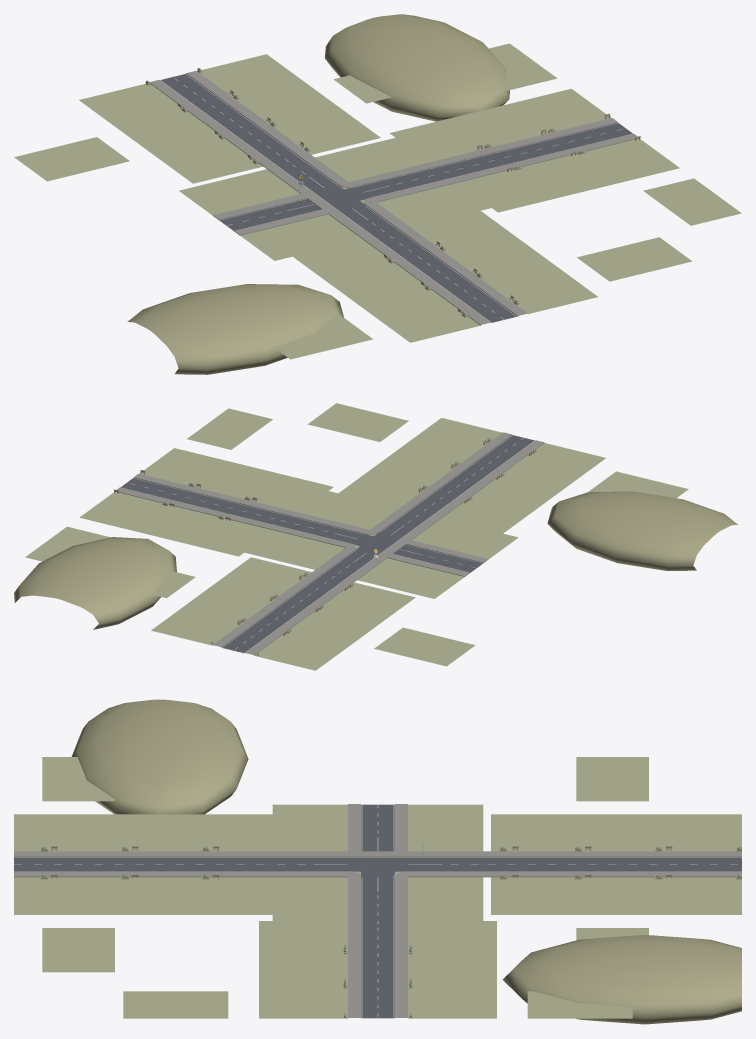
The picture shows the model from 3 angles, top to bottom: view 1: azimuth 30°, elevation 25°; view 2: azimuth 150°, elevation 25°; view 3: azimuth 270°, elevation 25°; orthographic projection. The views are drawn at different scales.
Parts seen in each view (by area): view 1: static; view 2: static; view 3: static.
Boxes of the visible parts, x1,y1,x2,y2 form: static: [14, 14, 741, 374]; static: [14, 403, 737, 670]; static: [14, 699, 741, 1024].
Size of what is drawn, in the model's own units: 180 by 14.08 by 180.
5 materials, 4 textured.
